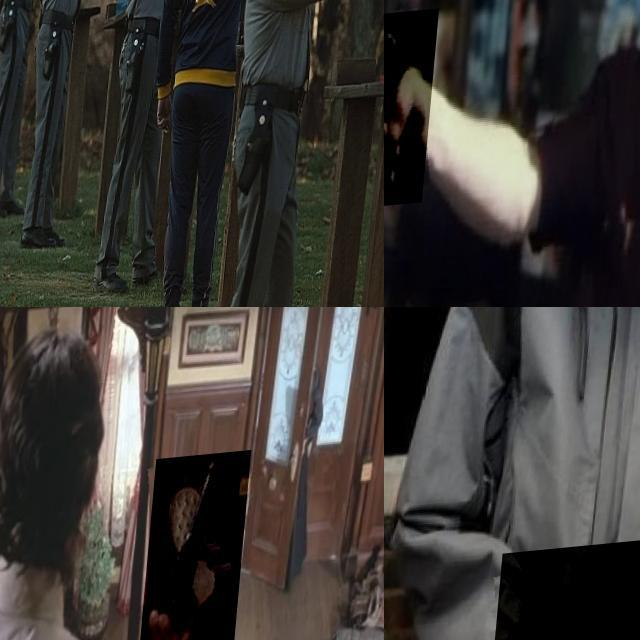-: (493, 543, 640, 640)
gun-knife-thesis - v11 Yolov5 augmented: (145, 457, 255, 640), (384, 11, 463, 217), (322, 0, 374, 31), (232, 0, 273, 24)
